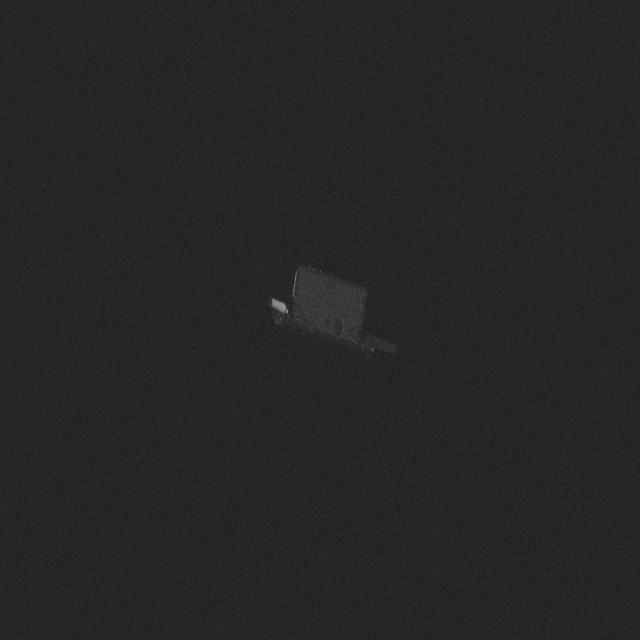satellite: (246, 254, 404, 366)
